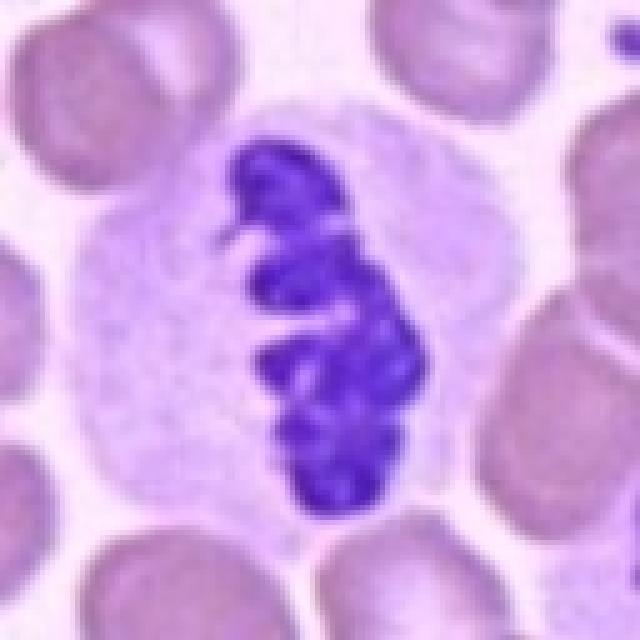neutro: (29, 77, 569, 587)
